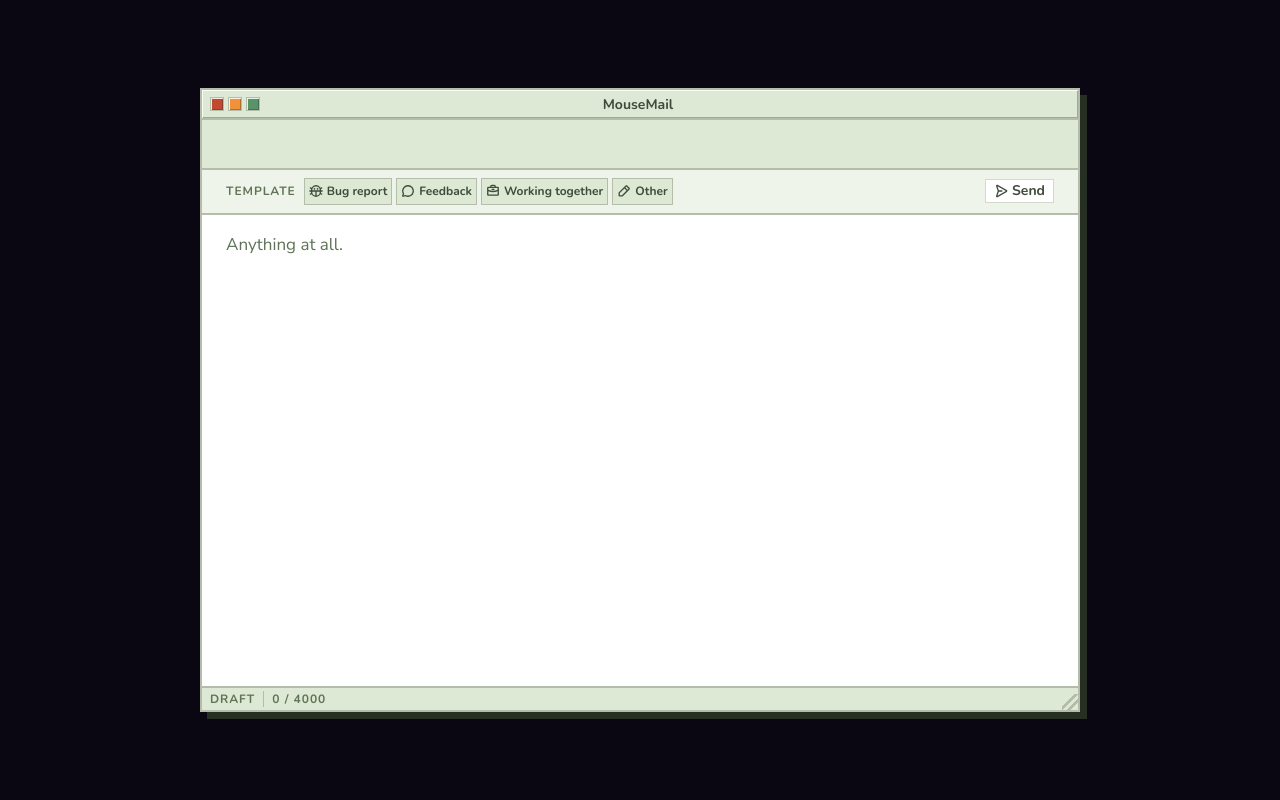
Test: MouseMailWindow › hands the note back untouched when the send fails
Type "the lantern flickers" into the text box named "message" at (640, 450), box [202,215,1078,686]
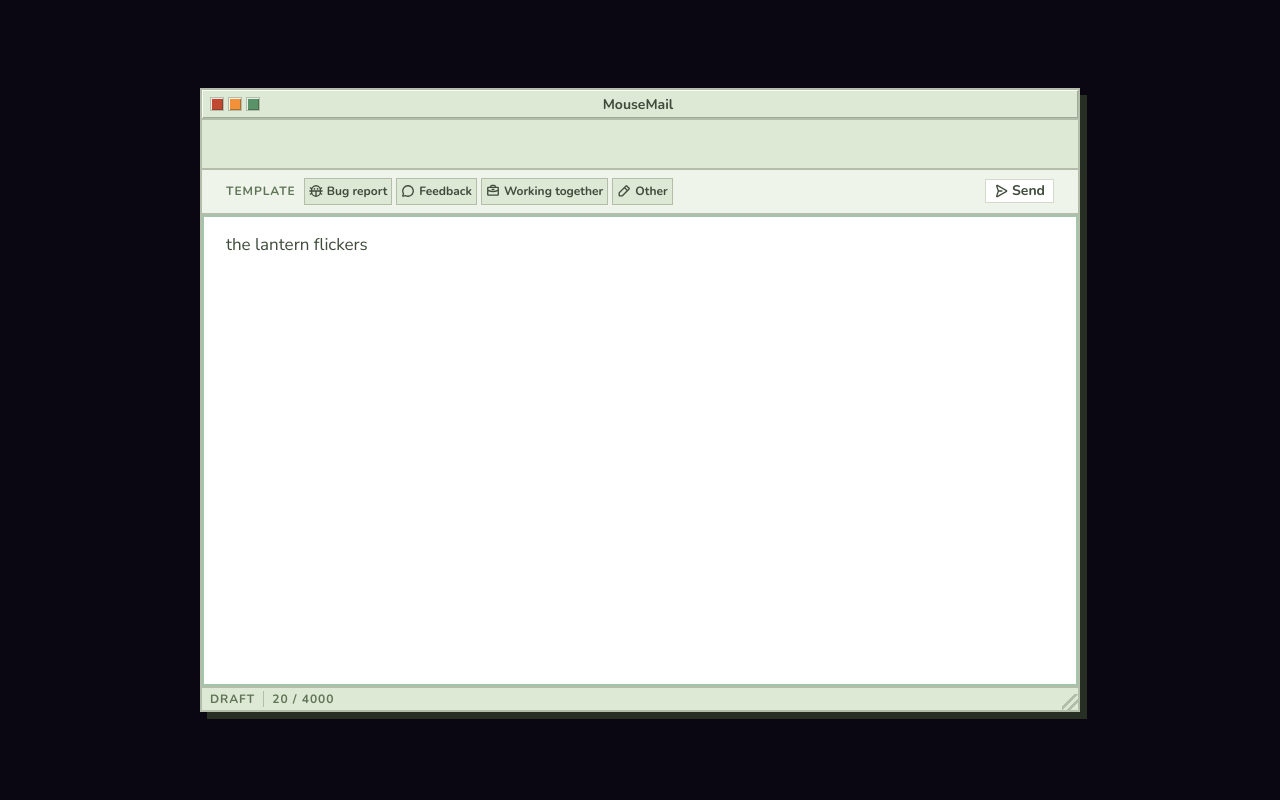
Click the button "Send" at (1020, 191), box [985,179,1054,203]
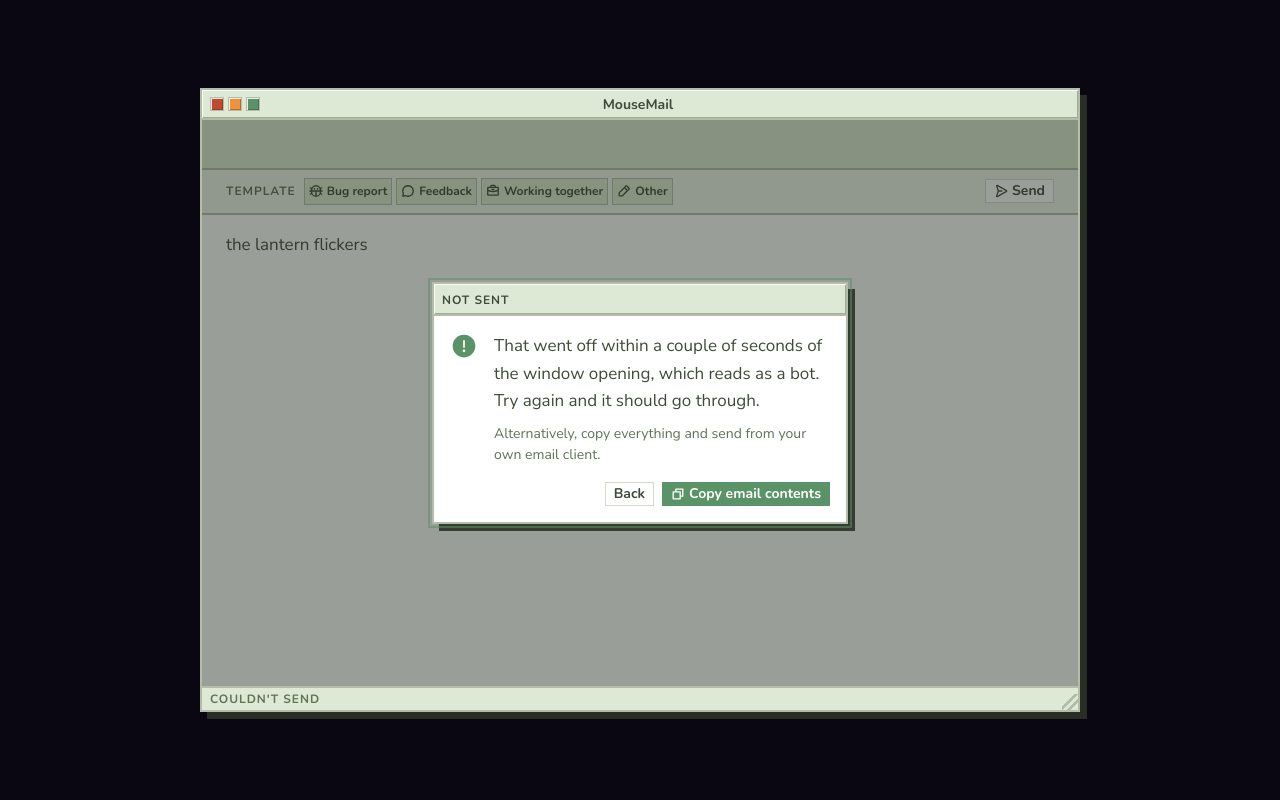
Result: the text "Couldn't send" is shown at [210,691,320,707]
Click the button "Back" at (629, 494), box [605,482,654,506]
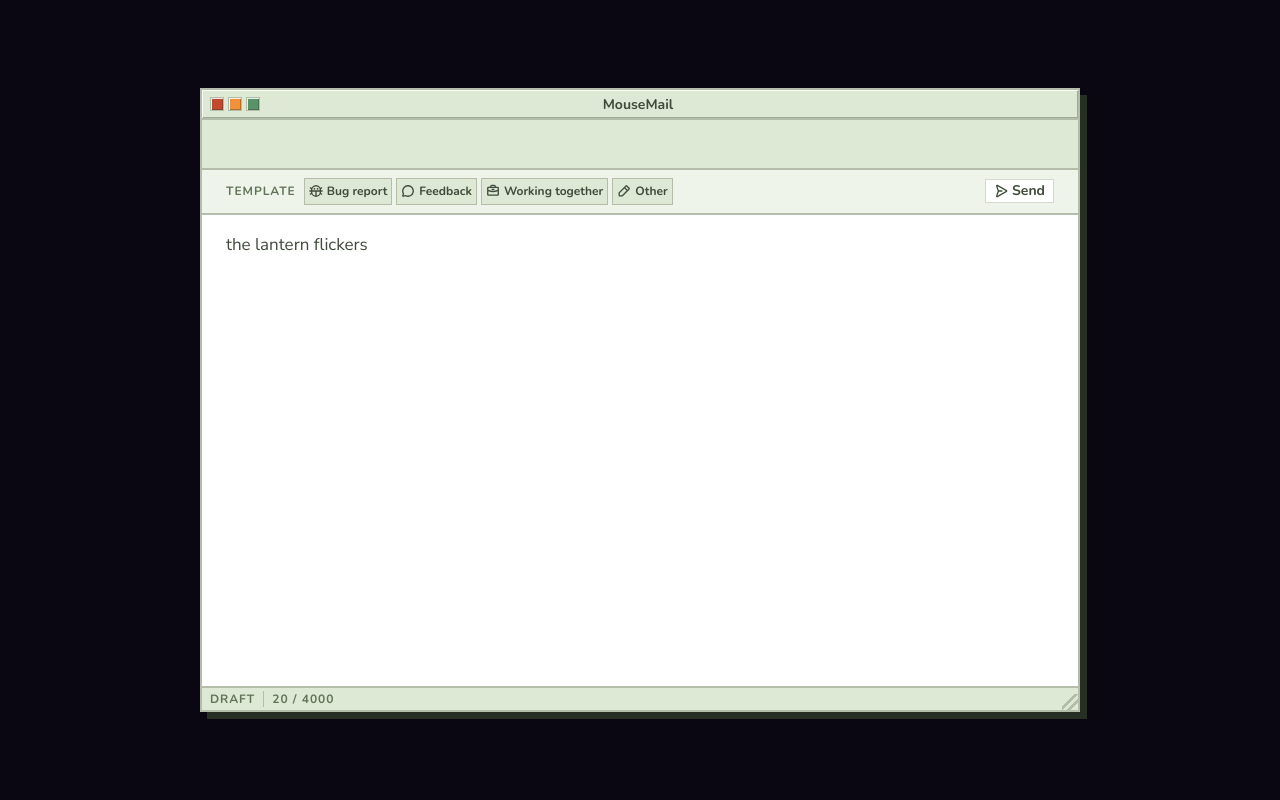
Result: the dialog is gone
